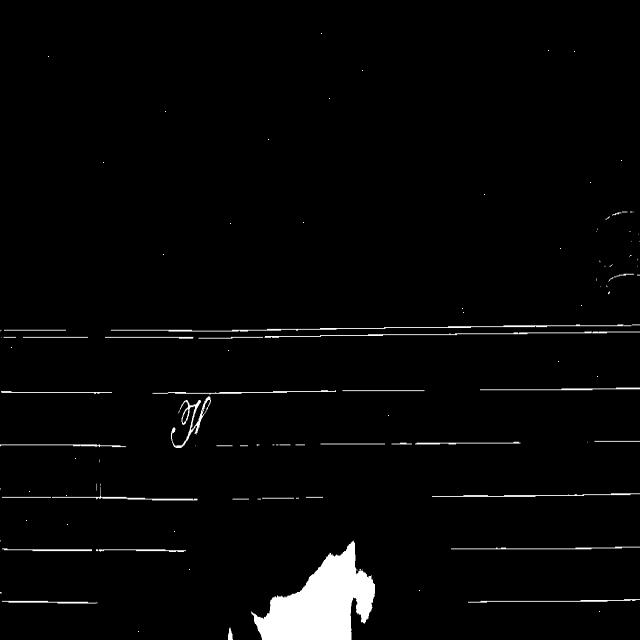hand: (255, 541, 374, 639), (228, 628, 232, 639)
noise: (106, 324, 640, 339), (0, 488, 198, 501), (0, 542, 186, 554), (150, 388, 426, 396), (431, 492, 640, 498), (319, 441, 520, 447), (468, 597, 640, 604), (450, 545, 640, 551), (0, 327, 88, 339), (479, 385, 640, 391), (230, 494, 323, 503), (0, 388, 114, 395), (0, 443, 126, 447), (2, 600, 97, 604), (588, 439, 640, 444), (270, 443, 307, 447)
not-noise: (171, 396, 211, 448)
page-marker: (596, 212, 640, 287)
